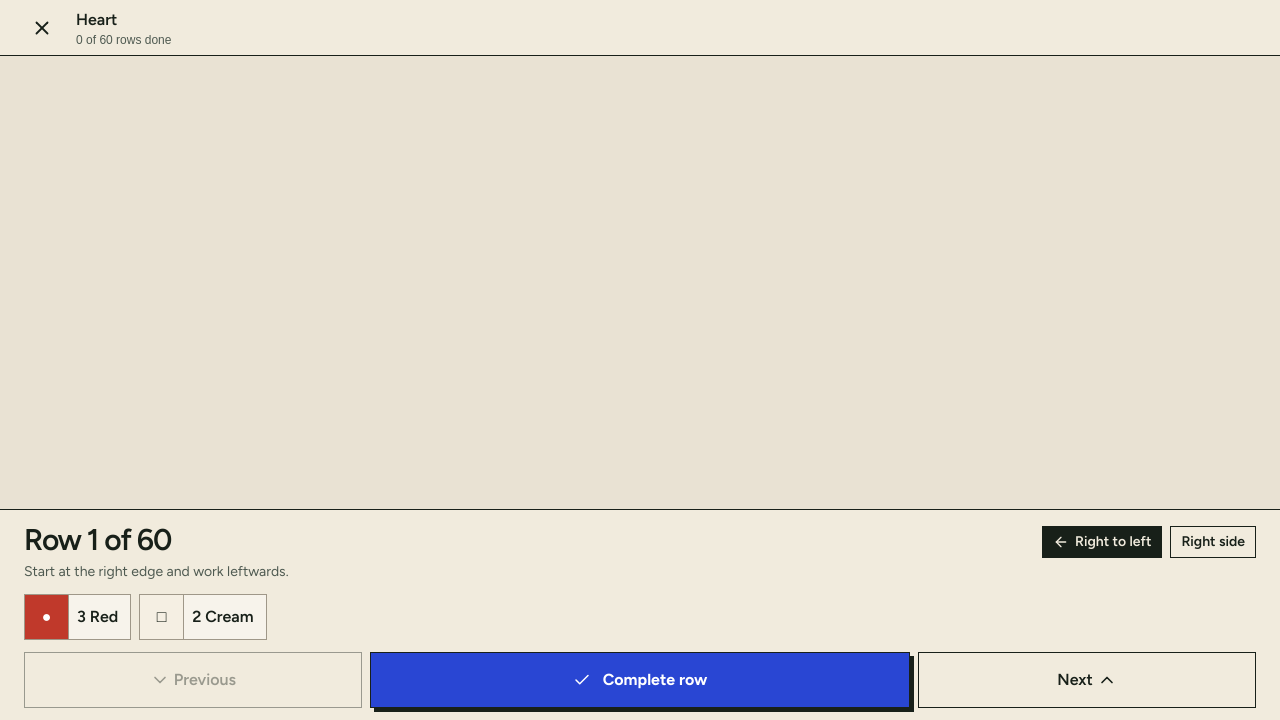
Test: FollowMode › alternates direction and side on the next row
Click the button with aria-label "Next row". click: click(1087, 680)
box: [918,652,1256,708]
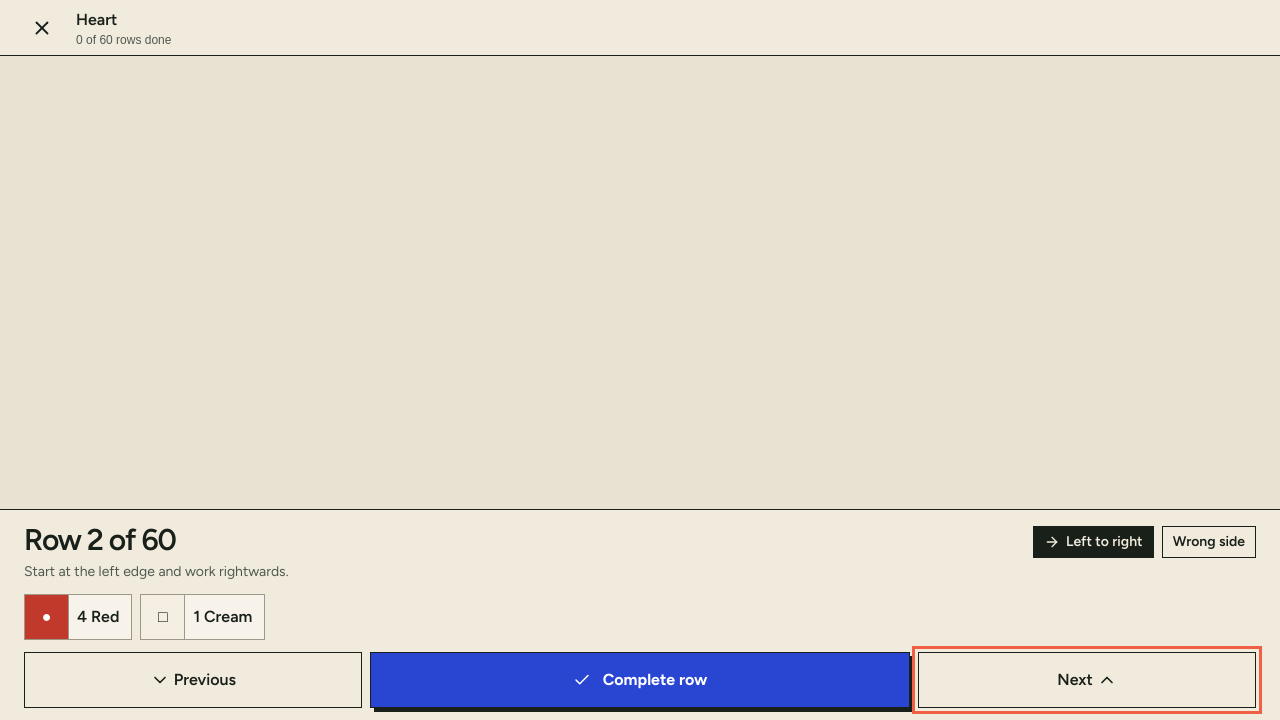
Expected: the heading "Row 2 of 60" is shown, [24,522,176,558]
Expected: the text "Left to right" is shown, [1066,532,1143,552]
Expected: the text "Wrong side" is shown, [1162,526,1256,558]
